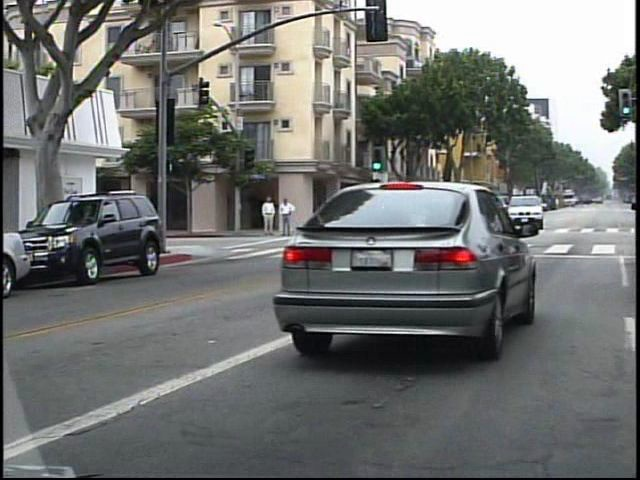person: (257, 191, 274, 236), (276, 194, 292, 237)
